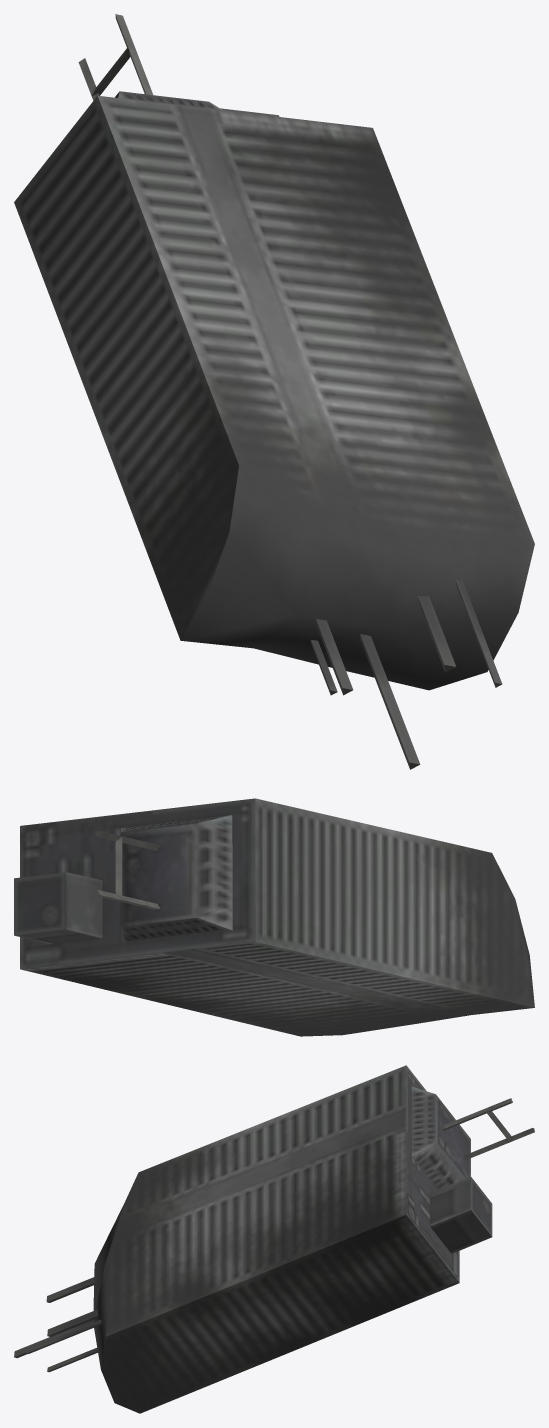
Rendered from skyBuildingAAC_pos_grp (1).fbx.
The picture shows the model from 3 angles, top to bottom: view 1: azimuth 30°, elevation 25°; view 2: azimuth 150°, elevation 25°; view 3: azimuth 270°, elevation 25°; orthographic projection. The views are drawn at different scales.
Visible parts, largest first — view 1: skyBuildingAAC_geo; view 2: skyBuildingAAC_geo; view 3: skyBuildingAAC_geo.
Boxes of the visible parts, x1,y1,x2,y2 form: skyBuildingAAC_geo: (14,14,534,769); skyBuildingAAC_geo: (14,798,534,1036); skyBuildingAAC_geo: (14,1065,534,1413).
Bounding box in the file's own units: 5.49 × 6.19 × 9.74.
